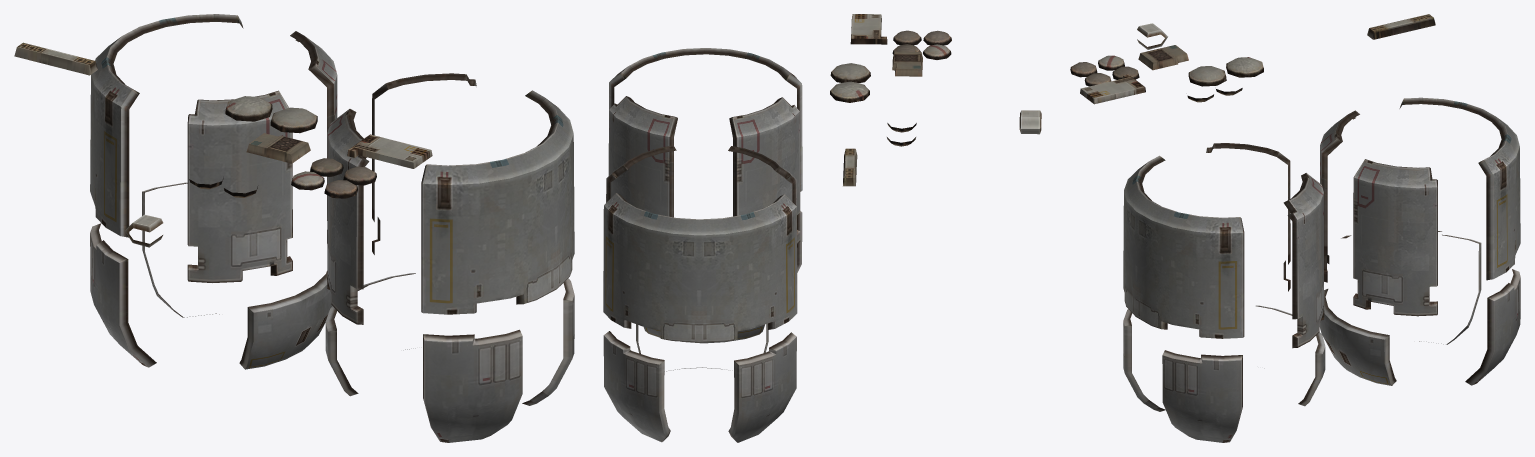
Rendered from prop_static_tr1_container_01_01_0.glb.
3 renders of one model, left to right at view 1: azimuth 30°, elevation 25°; view 2: azimuth 150°, elevation 25°; view 3: azimuth 270°, elevation 25°, orthographic. The views are drawn at different scales.
Parts seen in each view (by area): view 1: tr1_container_01_01_LOD0; view 2: tr1_container_01_01_LOD0; view 3: tr1_container_01_01_LOD0.
Part boxes in pixels (x1,y1,x2,y2): tr1_container_01_01_LOD0: (14, 14, 574, 442); tr1_container_01_01_LOD0: (603, 14, 1041, 442); tr1_container_01_01_LOD0: (1070, 14, 1520, 442).
Size of what is drawn, in the model's own units: 6.06 by 4.21 by 6.15.
Materials: 1 (1 with a texture image).
